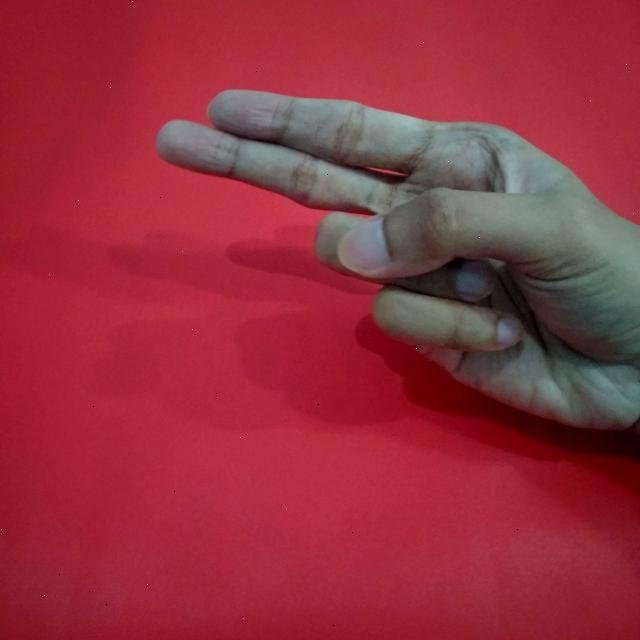H: (146, 71, 640, 445)
